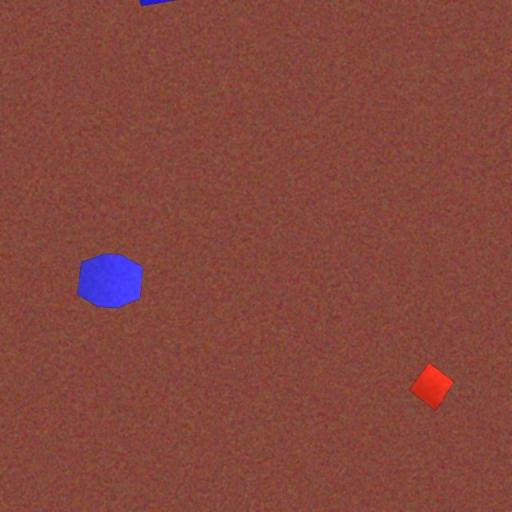RED_SQUARE: (409, 362, 454, 412)
